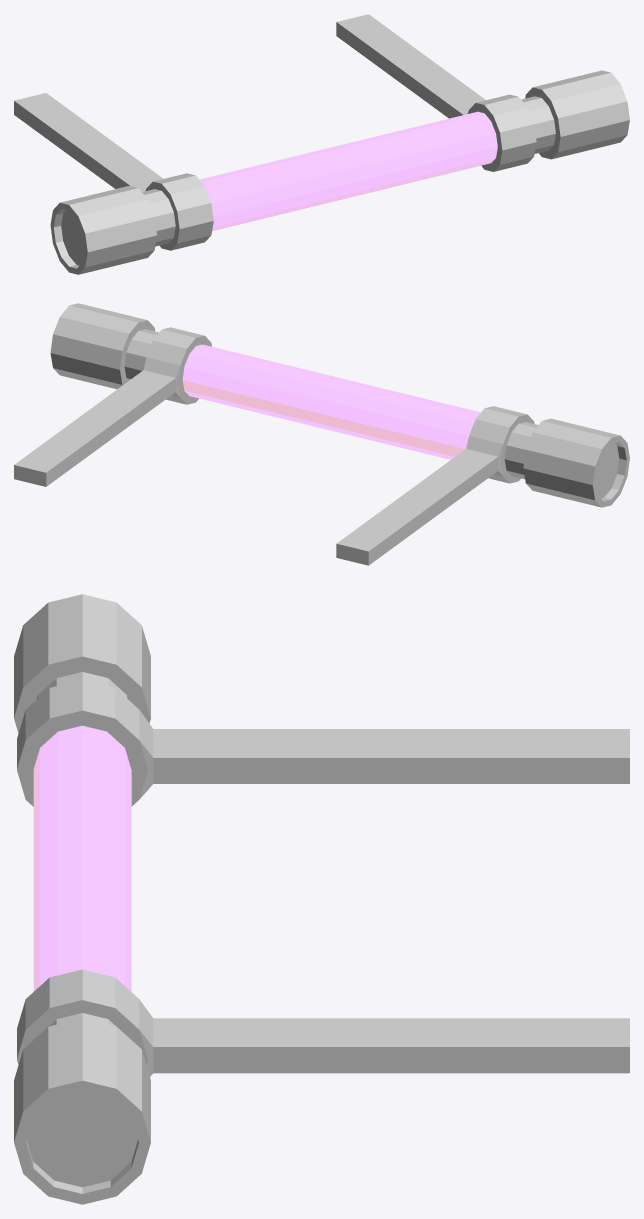
Rendered from Lamp_Neon.fbx.
3 renders of one model, top to bottom at view 1: azimuth 30°, elevation 25°; view 2: azimuth 150°, elevation 25°; view 3: azimuth 270°, elevation 25°, orthographic. The views are drawn at different scales.
Visible parts, largest first — view 1: Lamp_Neon; view 2: Lamp_Neon; view 3: Lamp_Neon.
Boxes of the visible parts, bbox=[...] form: Lamp_Neon: bbox=[14, 14, 629, 274]; Lamp_Neon: bbox=[14, 303, 629, 565]; Lamp_Neon: bbox=[14, 594, 629, 1204].
Bounding box in the file's own units: 0.9395 × 0.1118 × 0.5028.
